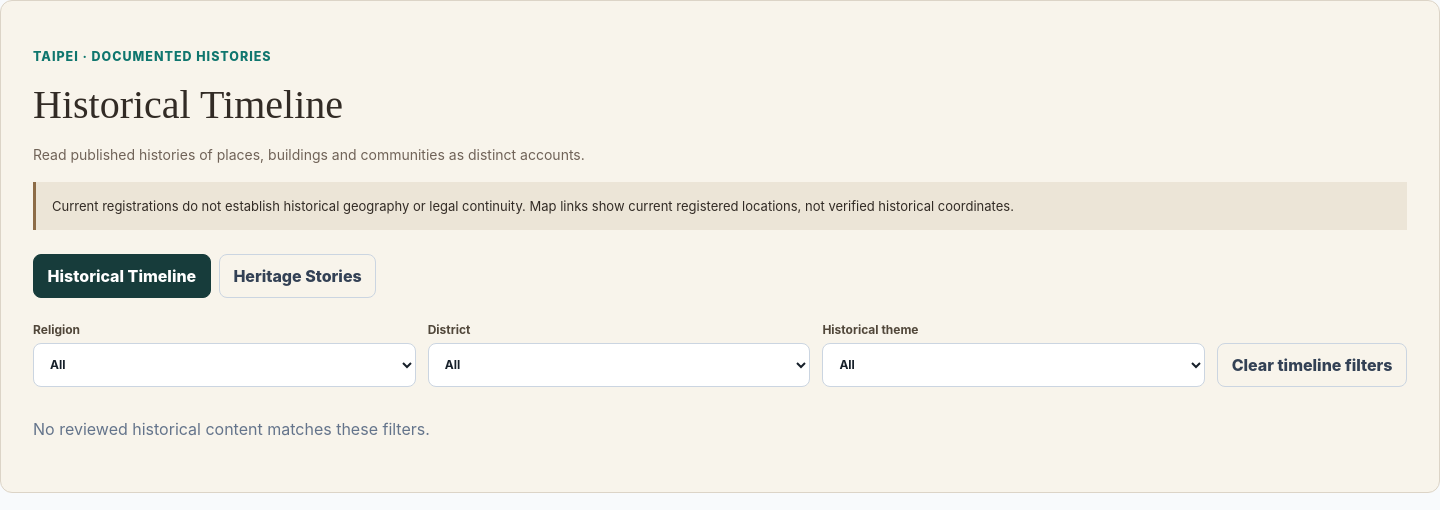
Test: heritage timeline and stories › withholds invalid evidence rather than presenting unsafe history or navigation actions
Check: the text "No reviewed historical content matches these filters." is shown, box [33,419,430,439]
Click the button "Heritage Stories": (298, 276) [219,254,376,298]
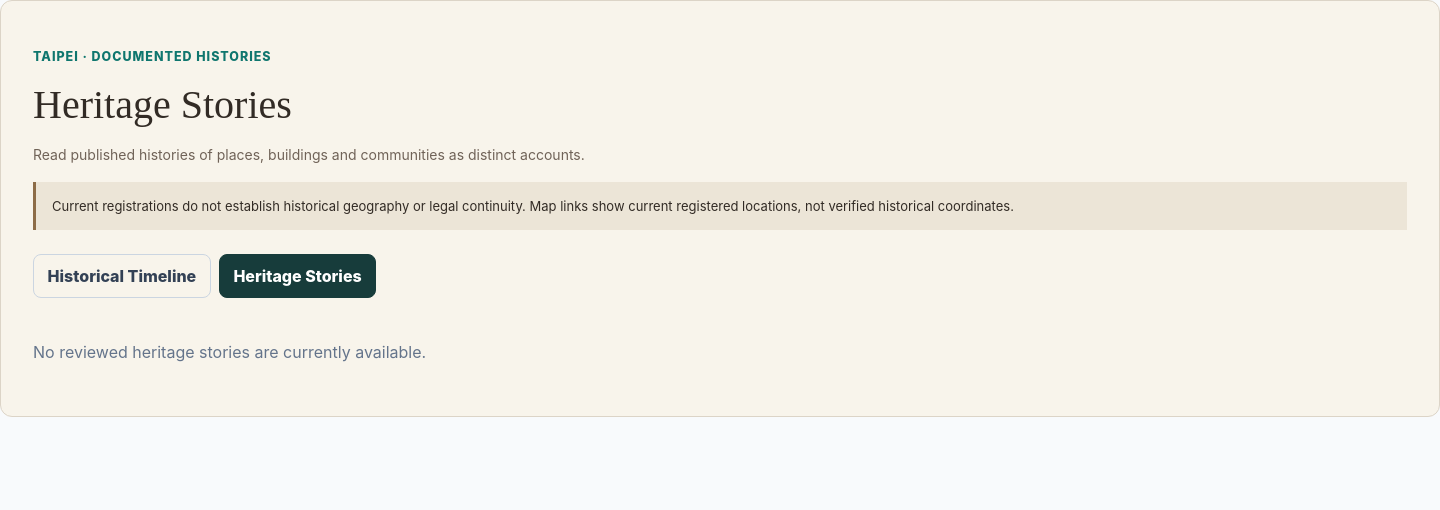
Check: the text "No reviewed heritage stories are currently available." is shown, box [33,342,426,362]
